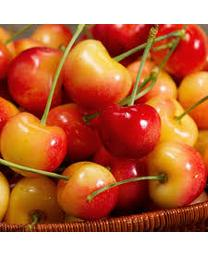cherry: (62, 39, 132, 109), (1, 111, 69, 178), (7, 47, 69, 110), (146, 141, 203, 205), (97, 104, 162, 159), (58, 162, 117, 217)
